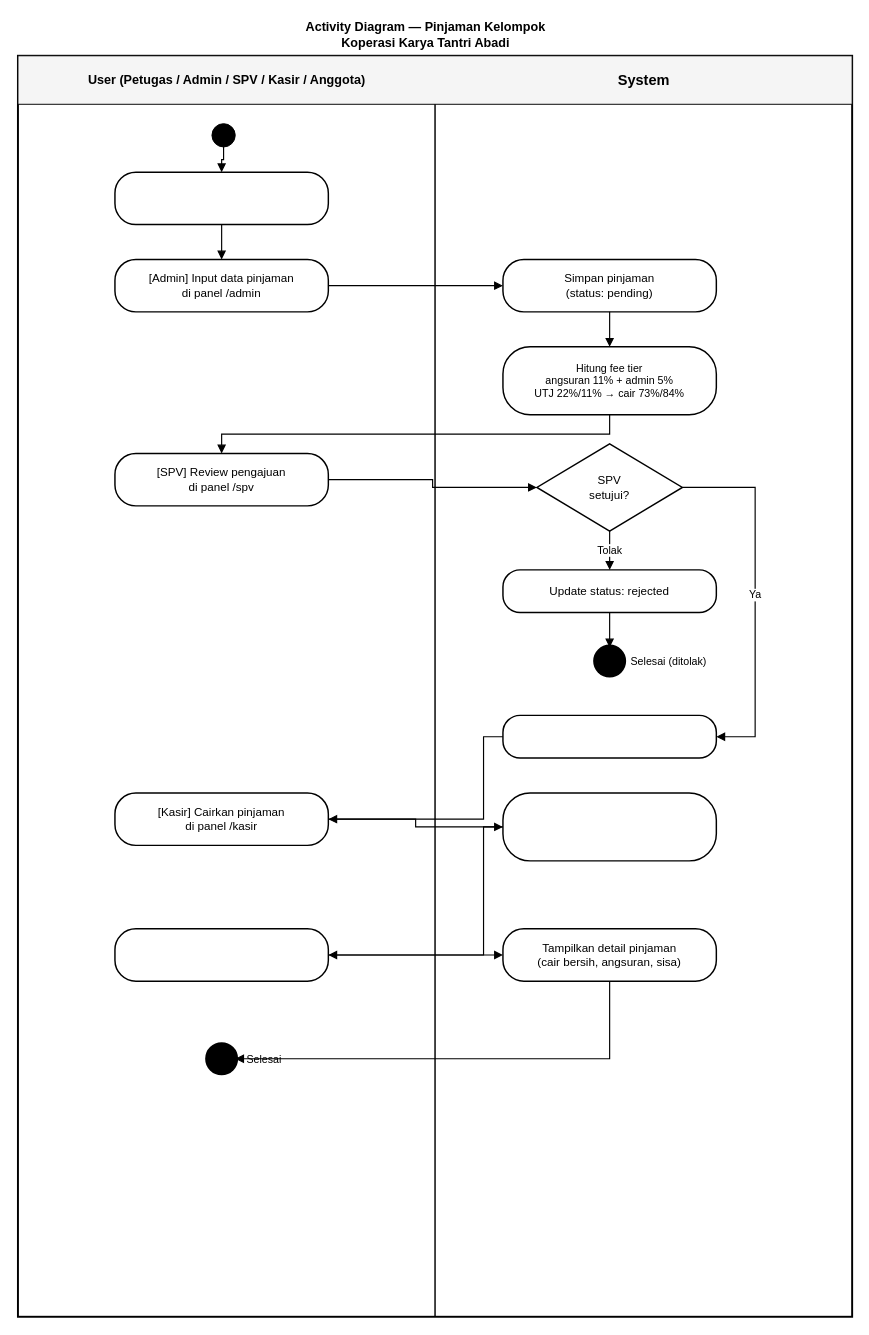
Image size: 869x1335. Some labels were removed from this diagram. Here are the shapes that lost their labels. From the top down, the centre of each, then its label:
the point at 221,198: [Petugas] Ajukan pinjaman kelompok (offline)
the point at 609,736: Update status: approved
the point at 609,826: Update status: disbursed + generate jadwal cicilan (mis. 12× mingguan / 3 bln)
the point at 221,954: [Anggota/Ketua] Lihat pinjaman sendiri di /anggota
